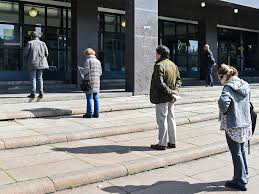Good: (150, 42, 257, 192), (76, 43, 180, 150), (200, 41, 256, 194), (21, 30, 103, 119), (149, 41, 215, 150)
